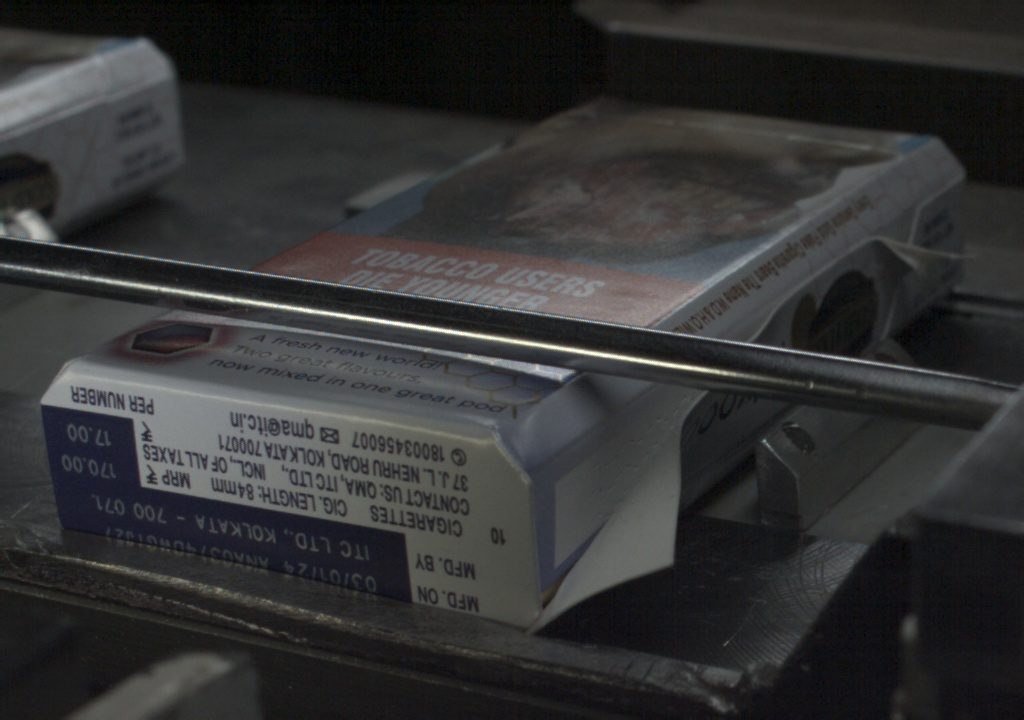g_bottom: (39, 374, 529, 631)
g_label: (52, 487, 416, 604)
g_lmiter: (870, 236, 951, 290)
g_miter: (911, 163, 969, 216)
ng_lmiter: (541, 409, 682, 598)
price: (48, 414, 140, 484)
